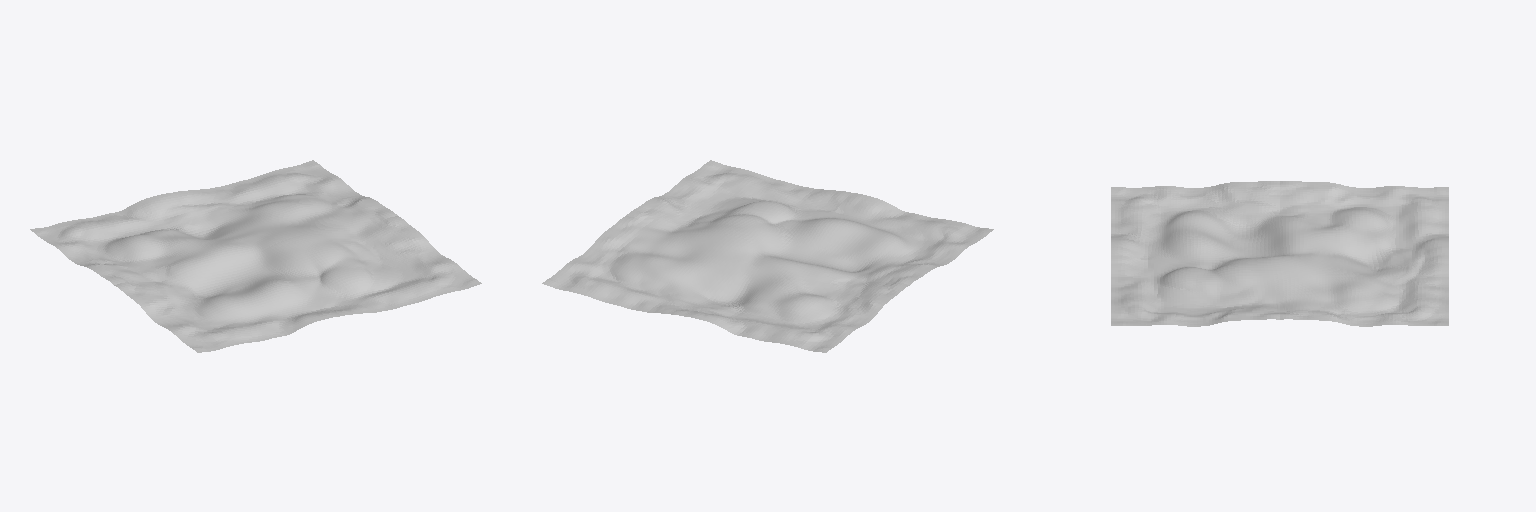
The model's file is coarse_ground3.obj.
3 renders of one model, left to right at view 1: azimuth 30°, elevation 25°; view 2: azimuth 150°, elevation 25°; view 3: azimuth 270°, elevation 25°, orthographic.
Parts seen in each view (by area): view 1: pPlane20; view 2: pPlane20; view 3: pPlane20.
Boxes of the visible parts, box(x1,y1,x2,y2) form: pPlane20: box(30, 160, 481, 352); pPlane20: box(542, 160, 993, 352); pPlane20: box(1111, 181, 1448, 326).
Size of the model in its own units: 248 by 18.7 by 256.